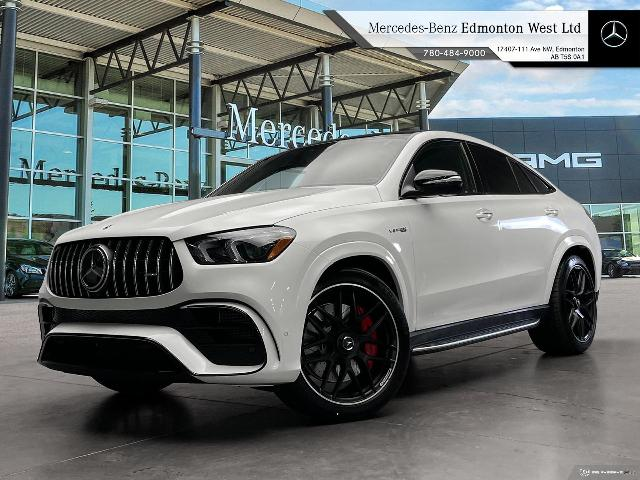benz: (35, 130, 602, 418)
